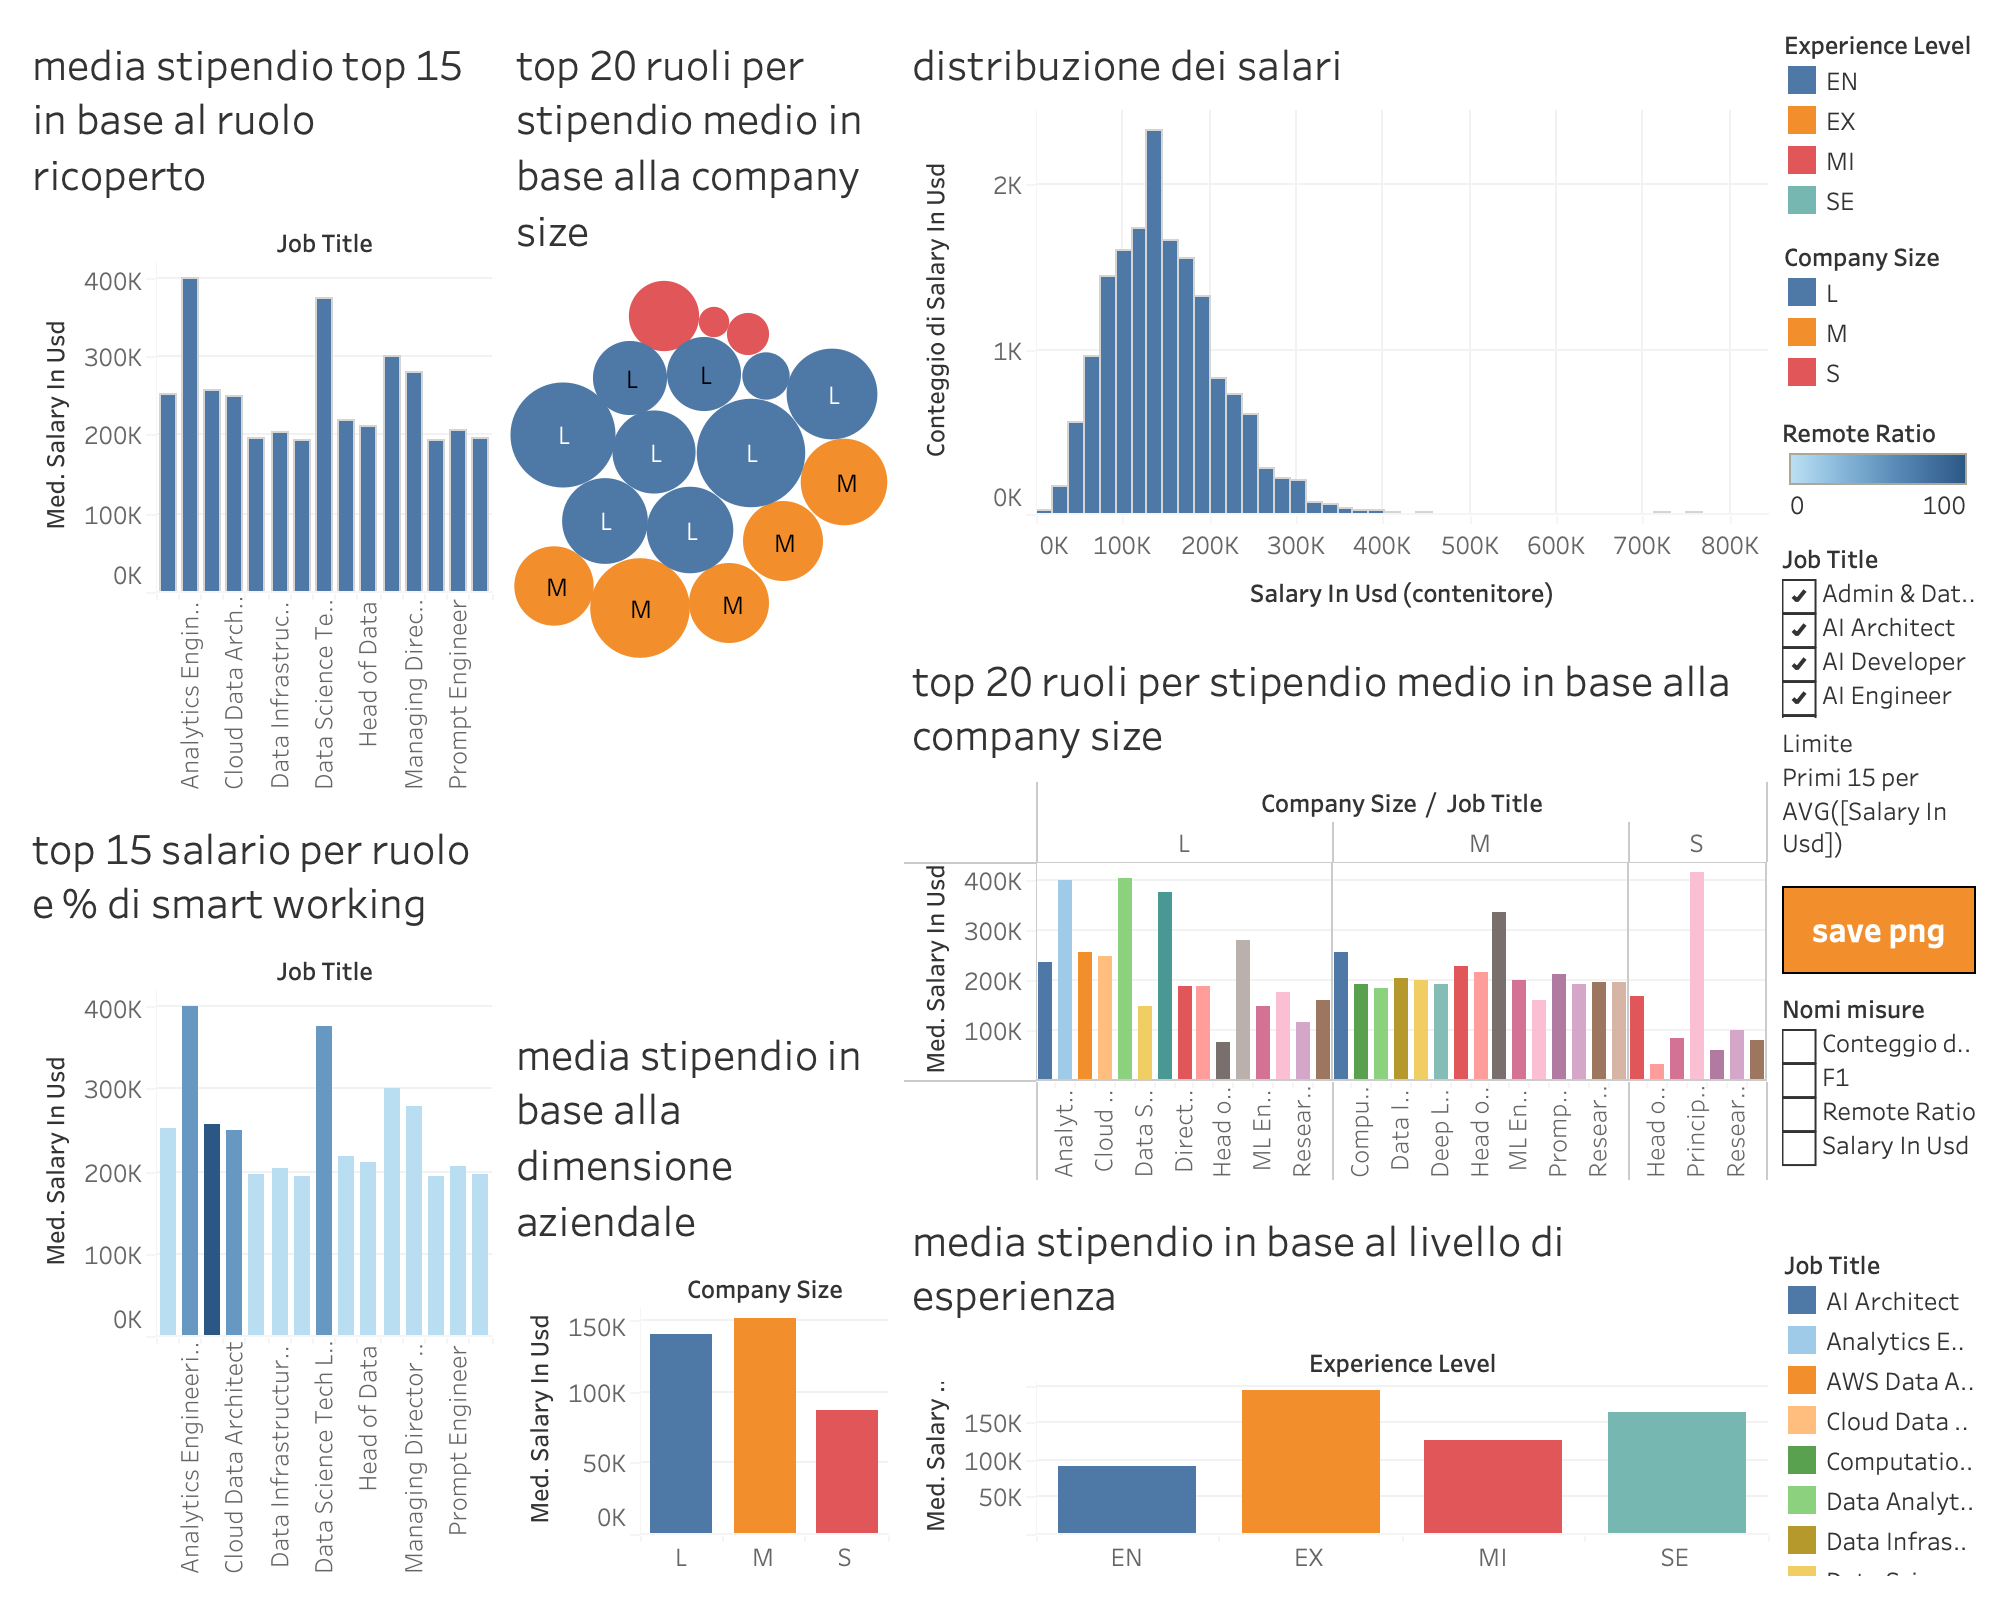

The dashboard page shown, as its layout file describes it:
{"tool":"tableau","page":{"name":"Dashboard 1","canvas":[1000,800],"ordinal":0},"visuals":[{"type":"worksheet","title":"Foglio 1","mark":"Automatic","rows":["salary_in_usd"],"cols":["job_title"],"box":[8,8,242,392]},{"type":"worksheet","title":"Foglio 8 (2)","mark":"Circle","box":[250,8,197.5,495]},{"type":"worksheet","title":"Foglio 10","mark":"Automatic","rows":["salary_in_usd"],"cols":["Salary In Usd (contenitore)"],"box":[447.5,8,439.5,308]},{"type":"legend","title":"Foglio 2","param":"[federated.0qunmrs0uww81717v3zws0szkqi9].[none:experience_level:nk]","box":[887,8,105,106]},{"type":"legend","title":"Foglio 2 (3)","param":"[federated.0qunmrs0uww81717v3zws0szkqi9].[none:company_size:nk]","box":[887,114,105,86]},{"type":"legend","title":"Foglio 7","param":"[federated.0qunmrs0uww81717v3zws0szkqi9].[attr:remote_ratio:qk]","box":[887,200,105,65]},{"type":"filter","title":"Foglio 1","param":"[federated.0qunmrs0uww81717v3zws0szkqi9].[none:job_title:nk]","box":[887,265,105,174]},{"type":"worksheet","title":"Foglio 8 (3)","mark":"Automatic","rows":["salary_in_usd"],"cols":["company_size","job_title"],"box":[447.5,316,439.5,280]},{"type":"worksheet","title":"Foglio 7","mark":"Automatic","rows":["salary_in_usd"],"cols":["job_title"],"box":[8,400,242,392]},{"type":"dashboard-object","box":[887,439,105,52]},{"type":"filter","title":"Foglio 1","param":"[federated.0qunmrs0uww81717v3zws0szkqi9].[:Measure Names]","box":[887,491,105,127]},{"type":"worksheet","title":"Foglio 2 (3)","mark":"Automatic","rows":["salary_in_usd"],"cols":["company_size"],"box":[250,503,197.5,289]},{"type":"worksheet","title":"Foglio 2","mark":"Automatic","rows":["salary_in_usd"],"cols":["experience_level"],"box":[447.5,596,439.5,196]},{"type":"legend","title":"Foglio 8 (3)","param":"[federated.0qunmrs0uww81717v3zws0szkqi9].[none:job_title:nk]","box":[887,618,105,174]}]}

Visuals, with their boxes in screenshot pixels (x1, y1, x2, y2), scaled from the page's 1000x800 canvas onto the 2000x1600 screenshot:
"Foglio 1" worksheet: box(16, 16, 500, 800)
"Foglio 8 (2)" worksheet (Circle marks): box(500, 16, 895, 1006)
"Foglio 10" worksheet: box(895, 16, 1774, 632)
"Foglio 2" legend: box(1774, 16, 1984, 228)
"Foglio 2 (3)" legend: box(1774, 228, 1984, 400)
"Foglio 7" legend: box(1774, 400, 1984, 530)
"Foglio 1" filter: box(1774, 530, 1984, 878)
"Foglio 8 (3)" worksheet: box(895, 632, 1774, 1192)
"Foglio 7" worksheet: box(16, 800, 500, 1584)
dashboard-object: box(1774, 878, 1984, 982)
"Foglio 1" filter: box(1774, 982, 1984, 1236)
"Foglio 2 (3)" worksheet: box(500, 1006, 895, 1584)
"Foglio 2" worksheet: box(895, 1192, 1774, 1584)
"Foglio 8 (3)" legend: box(1774, 1236, 1984, 1584)
